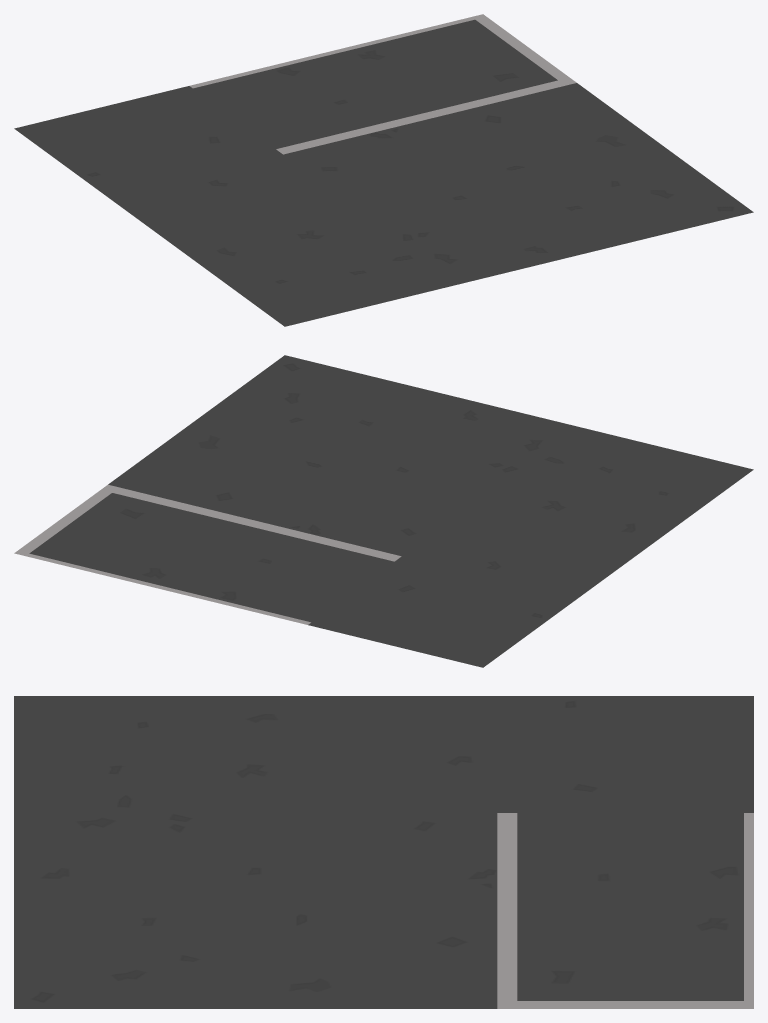
The model's file is SM_Gen_Env_Road_Parking_04.fbx.
3 views of the same model, one above another, from view 1: azimuth 30°, elevation 25°; view 2: azimuth 150°, elevation 25°; view 3: azimuth 270°, elevation 25° (orthographic). The views are drawn at different scales.
Visible parts, largest first — view 1: SM_Gen_Env_Road_Parking_04; view 2: SM_Gen_Env_Road_Parking_04; view 3: SM_Gen_Env_Road_Parking_04.
Boxes of the visible parts, x1,y1,x2,y2 form: SM_Gen_Env_Road_Parking_04: [14, 14, 753, 326]; SM_Gen_Env_Road_Parking_04: [14, 355, 753, 667]; SM_Gen_Env_Road_Parking_04: [14, 696, 753, 1008].
Size of the model in its own units: 1000 by 0 by 1000.
